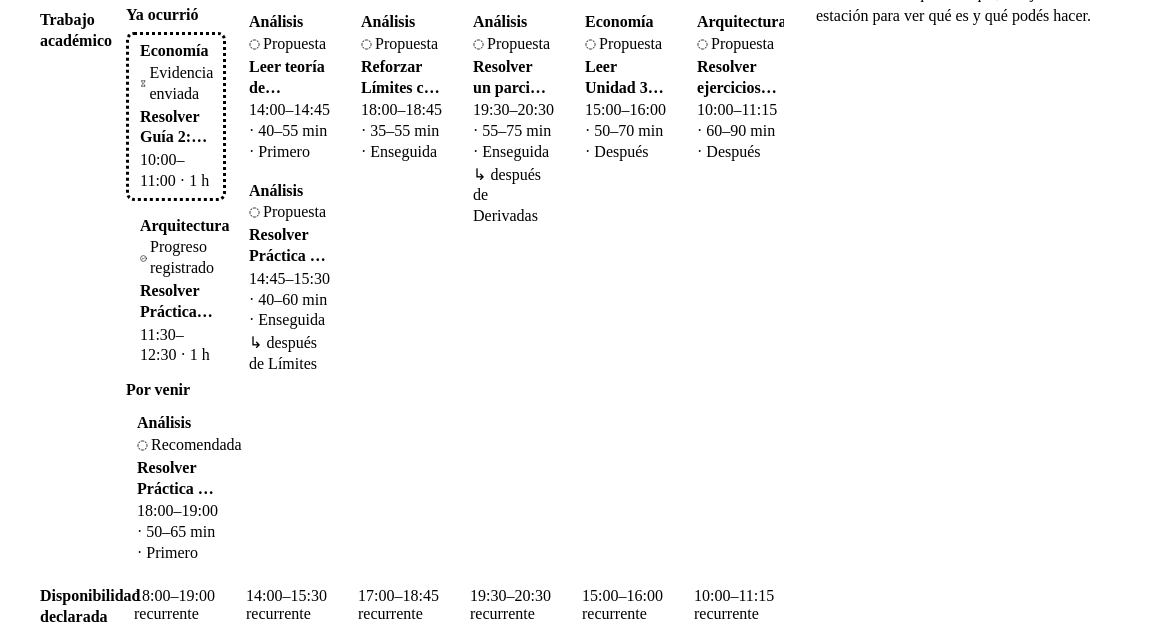
Test: Inspector universal › una propuesta futura: objetivo, prioridad, rango, confianza, evidencia, dependencias y acciones
(page scrolled)
Click the button with aria-label "Análisis Matemático I · Resolver Práctica 3: Derivadas · Pro": (288, 278) top-left (238, 175), bottom-right (338, 381)
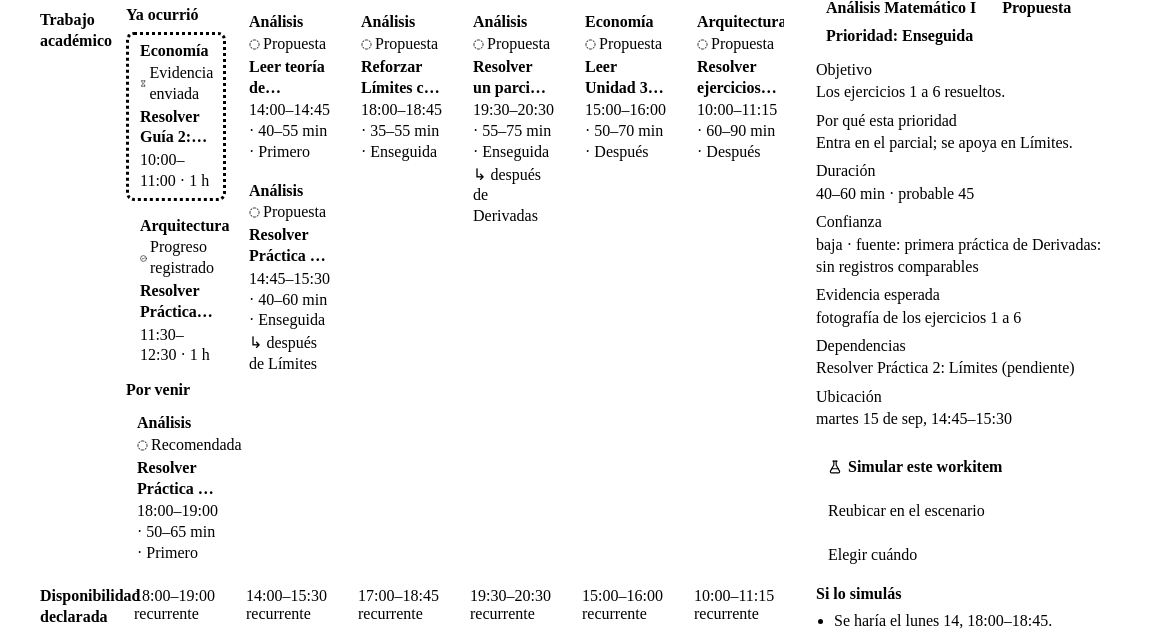
Check: the element that starts with "Resolver Práctica 3: Derivadas" shows "Los ejercicios 1 a 6 resueltos.", box top-left (816, 83), bottom-right (1005, 100)
Check: the element that starts with "Resolver Práctica 3: Derivadas" shows "fotografía de los ejercicios 1 a 6", box top-left (816, 309), bottom-right (1021, 326)
Check: the element that starts with "Resolver Práctica 3: Derivadas" shows "Resolver Práctica 2: Límites (pendiente)", box top-left (816, 360), bottom-right (1075, 377)
